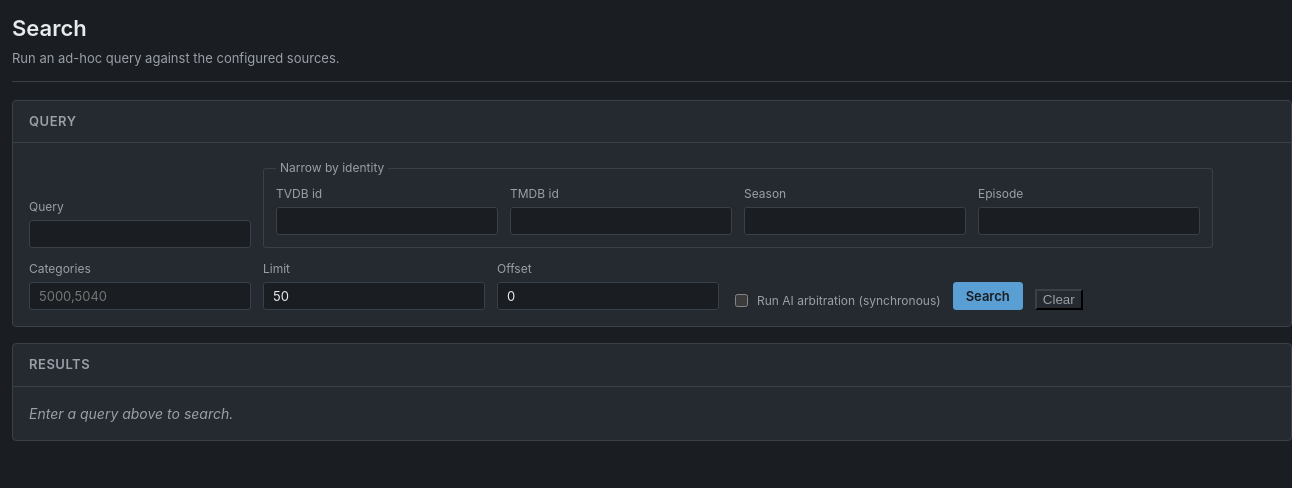
Test: Search › tells the operator a query ran and matched nothing
Type "some series" into the field labelled "Query".
click(140, 234); type("some series")  # box [29,220,251,248]
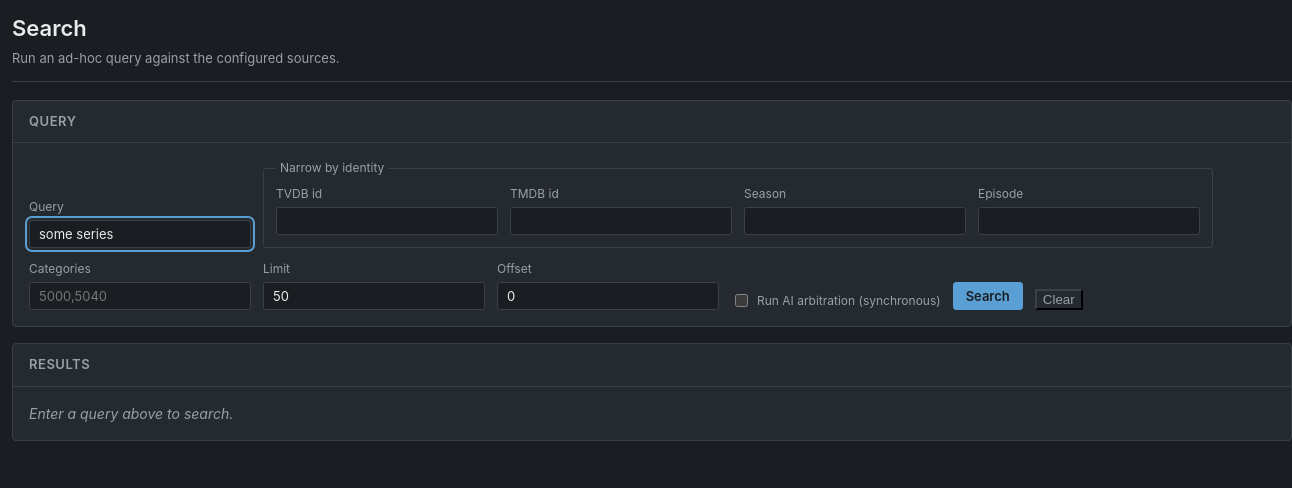
Click the button "Search".
click(988, 296)  # box [953,282,1023,310]
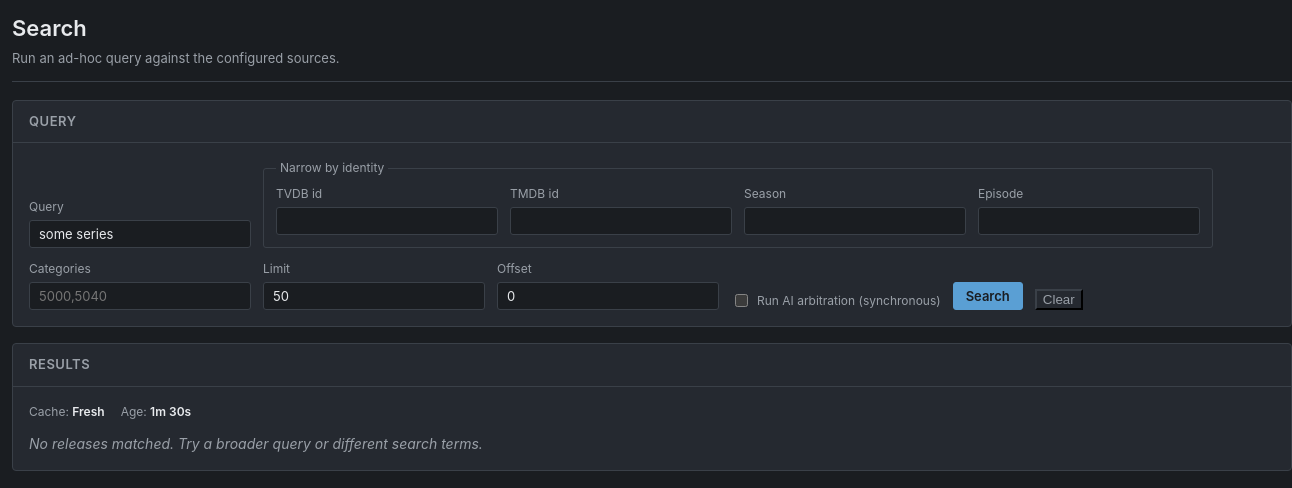
expect the text "No releases matched. Try a broader query or different search terms." is shown: met, box [29,434,483,452]
